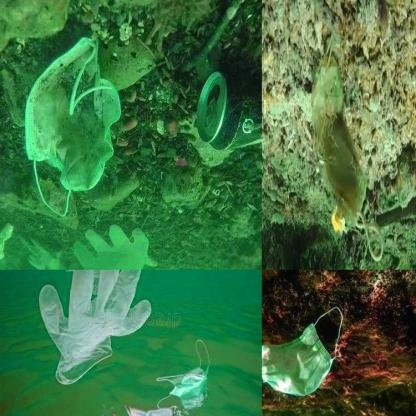Mask: (22, 32, 119, 218), (311, 32, 384, 262), (262, 300, 343, 398), (155, 339, 213, 402)
glove: (37, 270, 154, 385), (17, 220, 66, 269)
